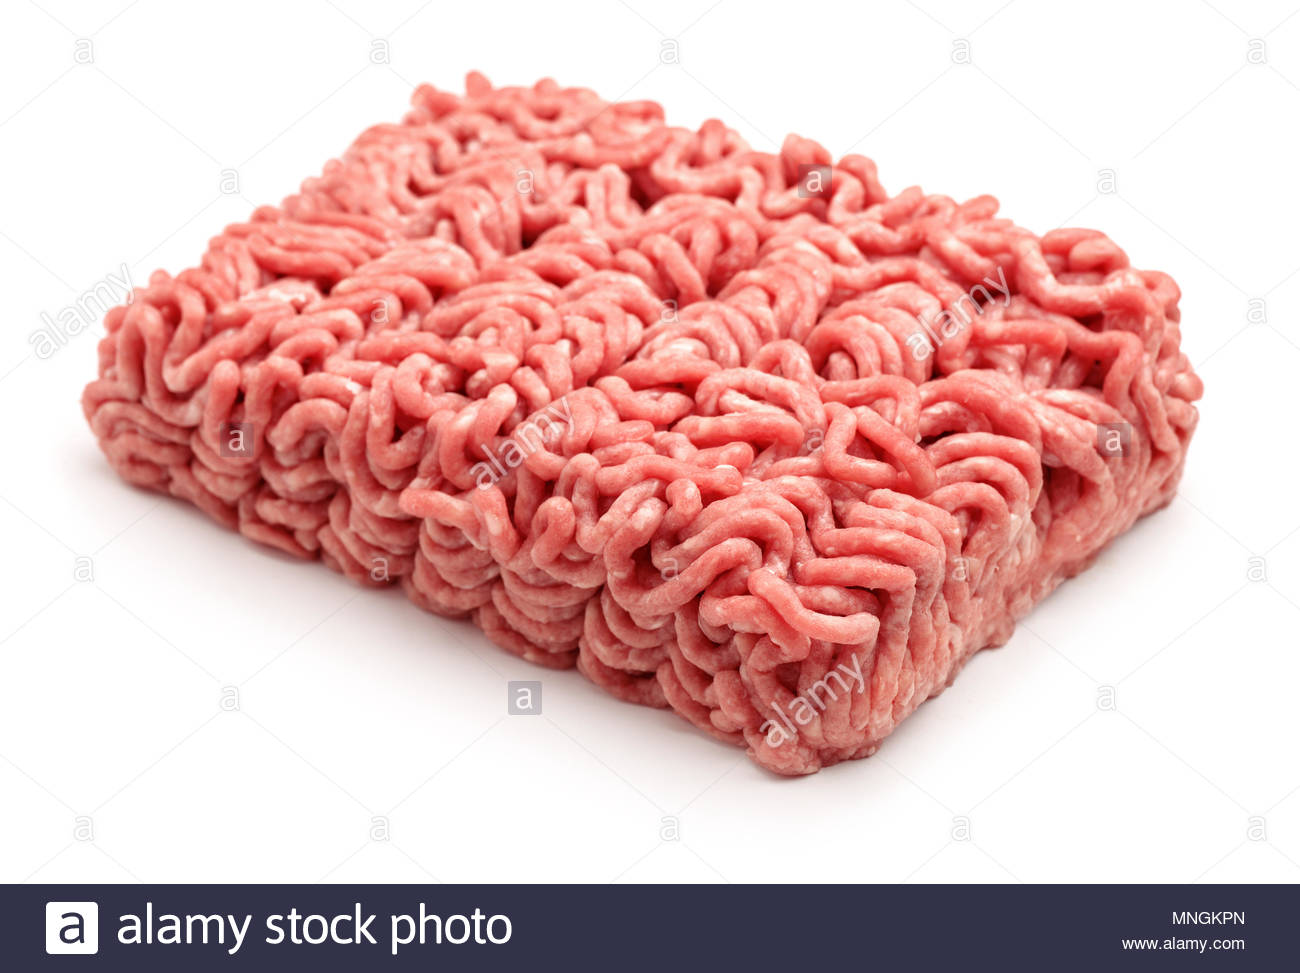ground_beef: (137, 51, 1231, 711)
